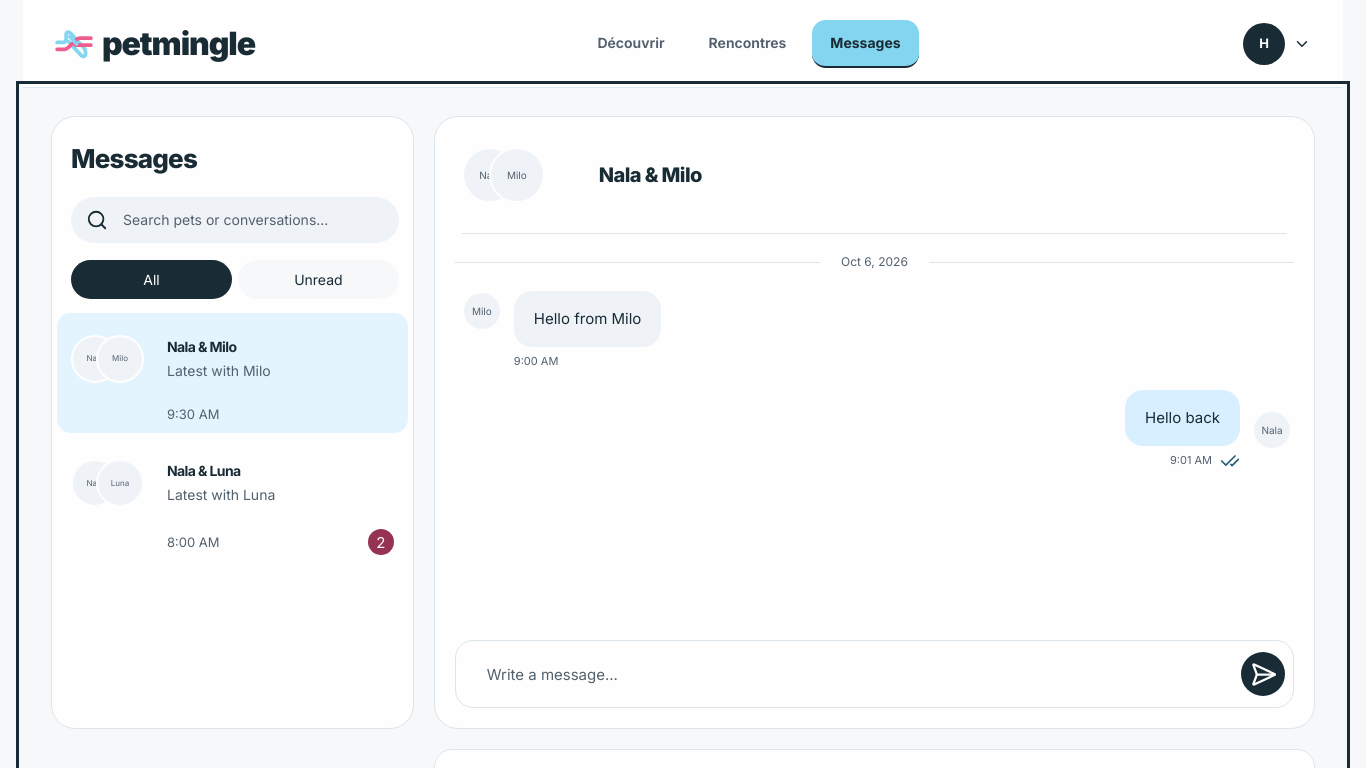
Test: Messaging persisted reads › preserves the draft after a validation failure
This screenshot has width=1366, height=768.
Expected: the text "Hello from Milo" is shown, [514,291,661,347]
In the field labelled "Write a message": (848, 674) [464,650,1233,698], type "Keep this draft"
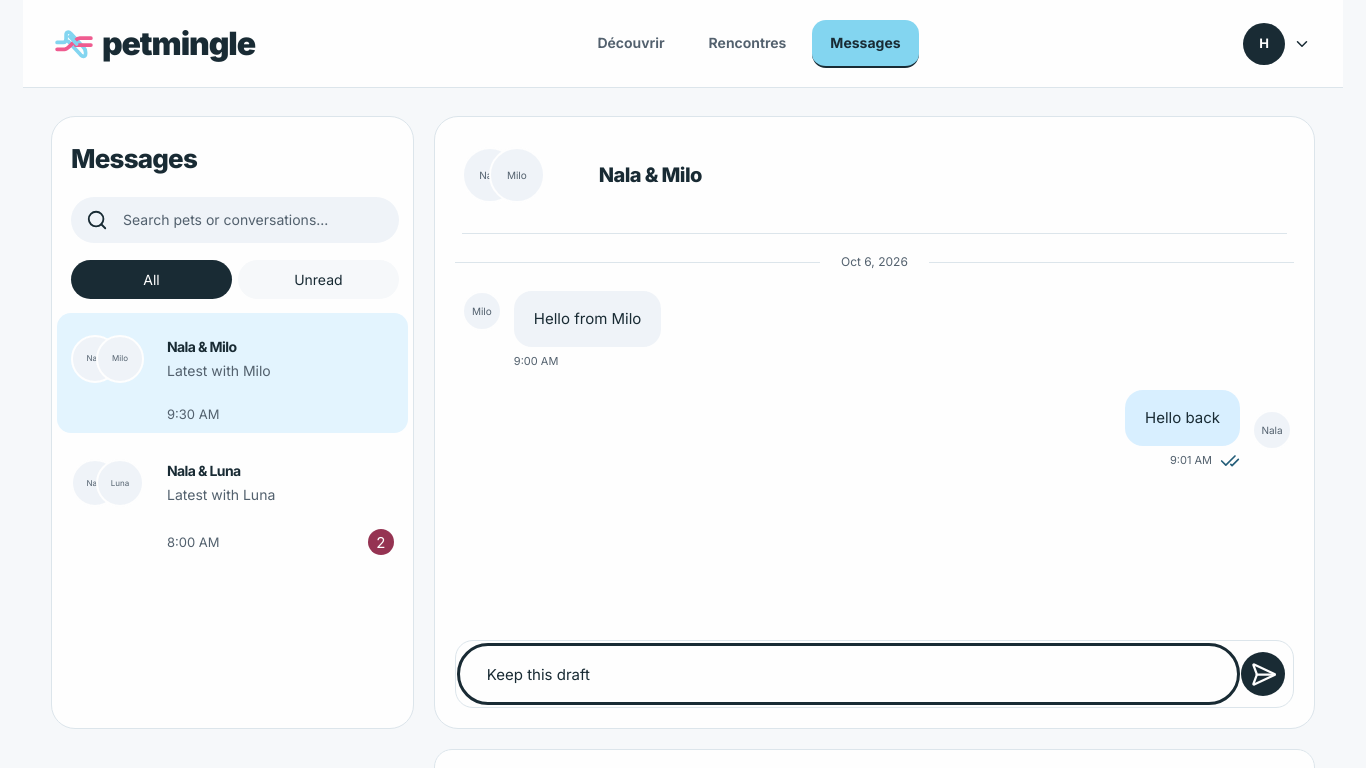
Click the button named "Send message": (1263, 674) [1241,652,1285,696]
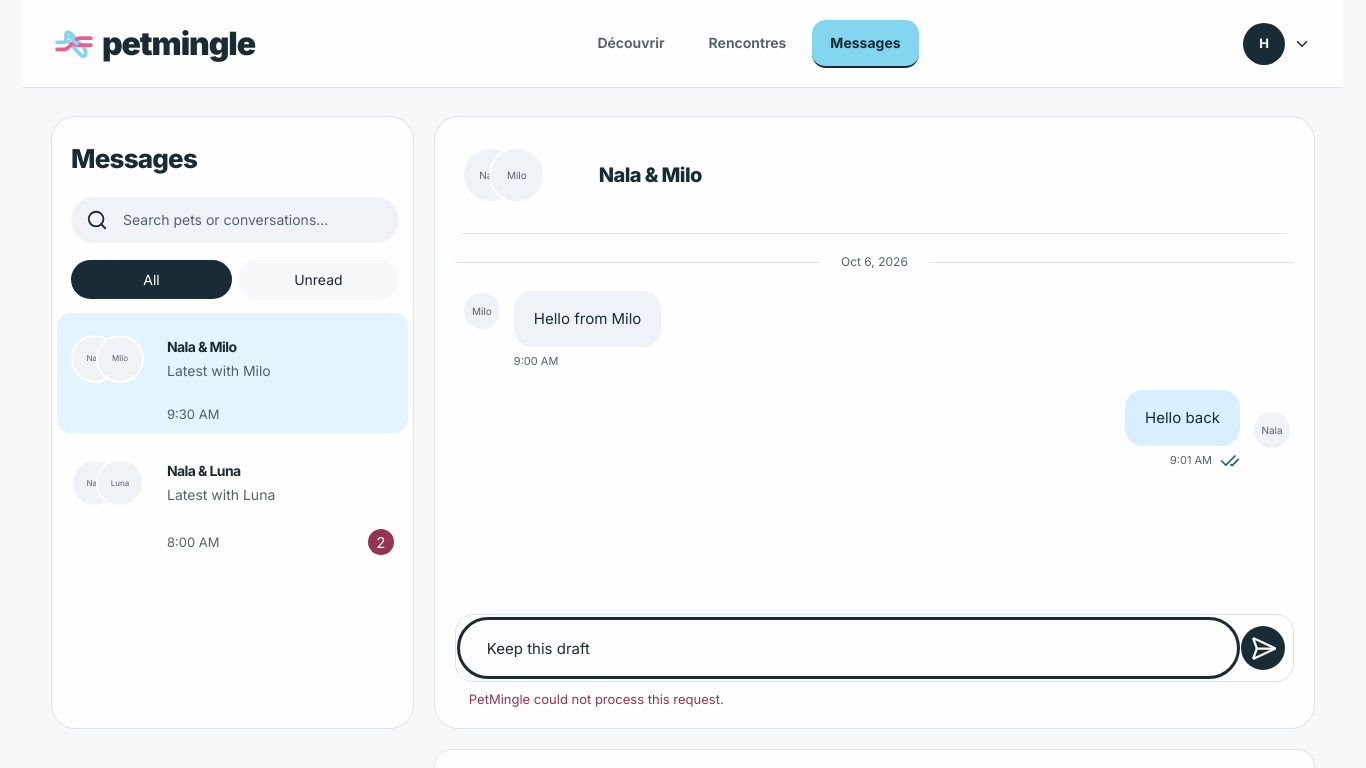
Expected: the message reads "PetMingle could not process this request.", [469,691,724,707]
